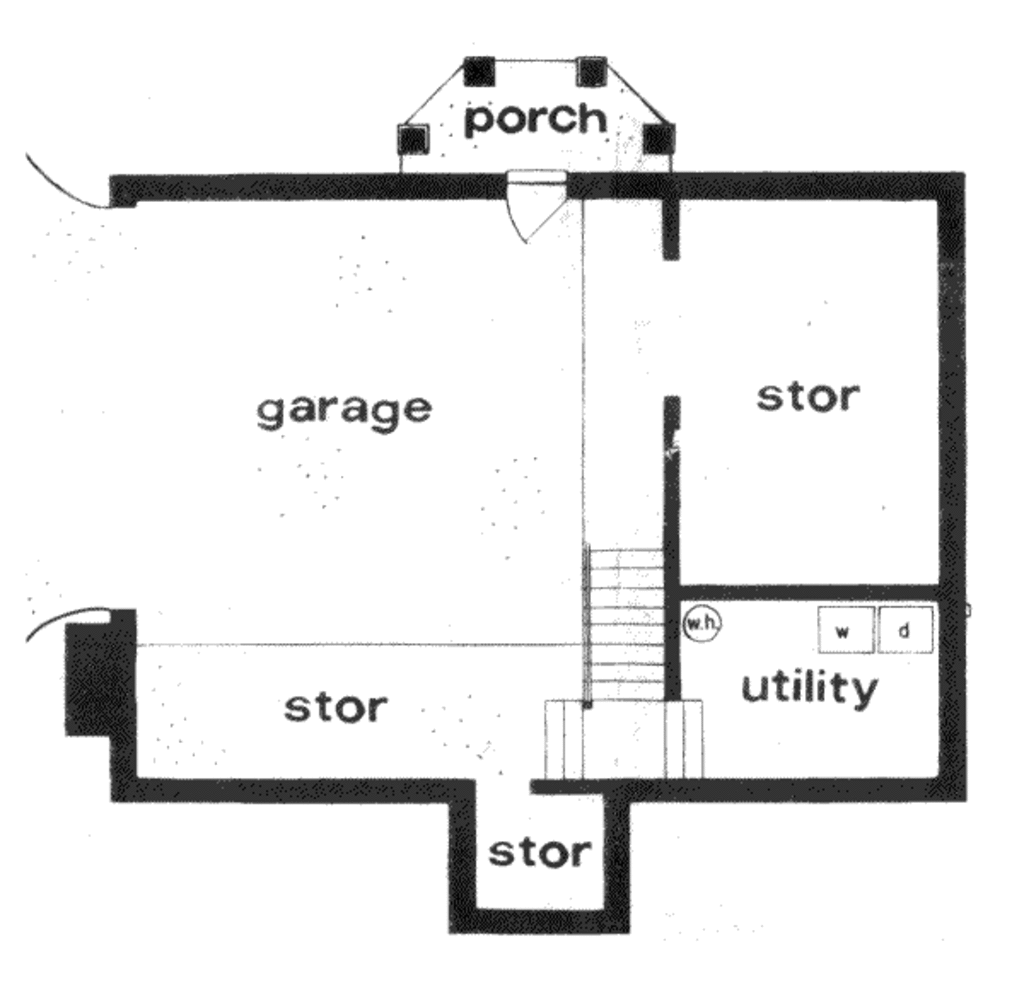door: (500, 162, 579, 262)
stairs: (539, 517, 721, 779)
